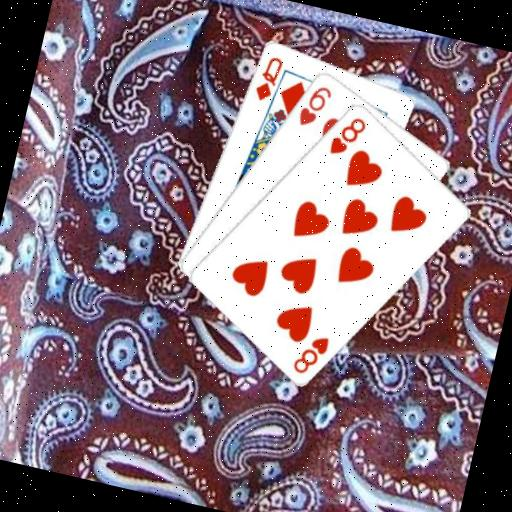6H: (294, 79, 335, 132)
8H: (325, 109, 369, 162), (289, 327, 333, 380)
QD: (250, 50, 286, 105)
